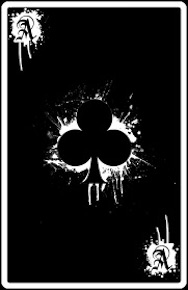AceOfClubs: (1, 3, 188, 286)
